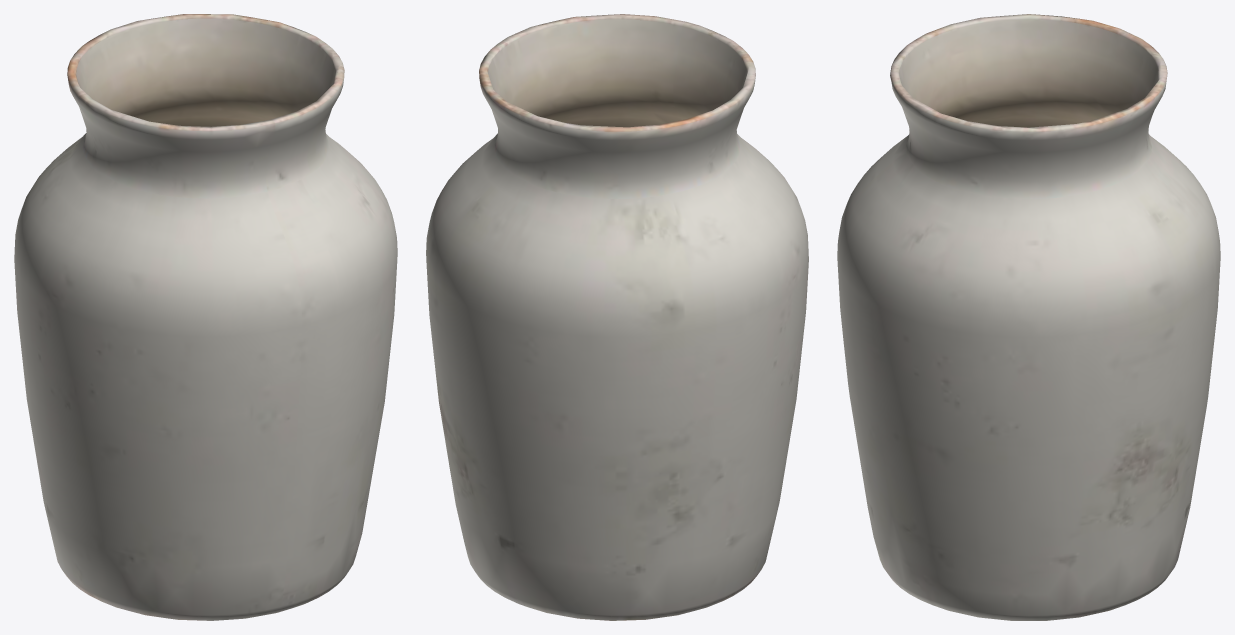
The model's file is ceramic_vase_02.glb.
The picture shows the model from 3 angles, left to right: view 1: azimuth 30°, elevation 25°; view 2: azimuth 150°, elevation 25°; view 3: azimuth 270°, elevation 25°; orthographic projection.
Parts seen in each view (by area): view 1: ceramic_vase_02; view 2: ceramic_vase_02; view 3: ceramic_vase_02.
Part boxes in pixels (box(x1,y1,x2,y2)): ceramic_vase_02: box(14, 14, 397, 620); ceramic_vase_02: box(426, 14, 808, 620); ceramic_vase_02: box(837, 14, 1220, 620).
Bounding box in the file's own units: 0.2184 × 0.3091 × 0.2184.
1 material, 1 textured.
